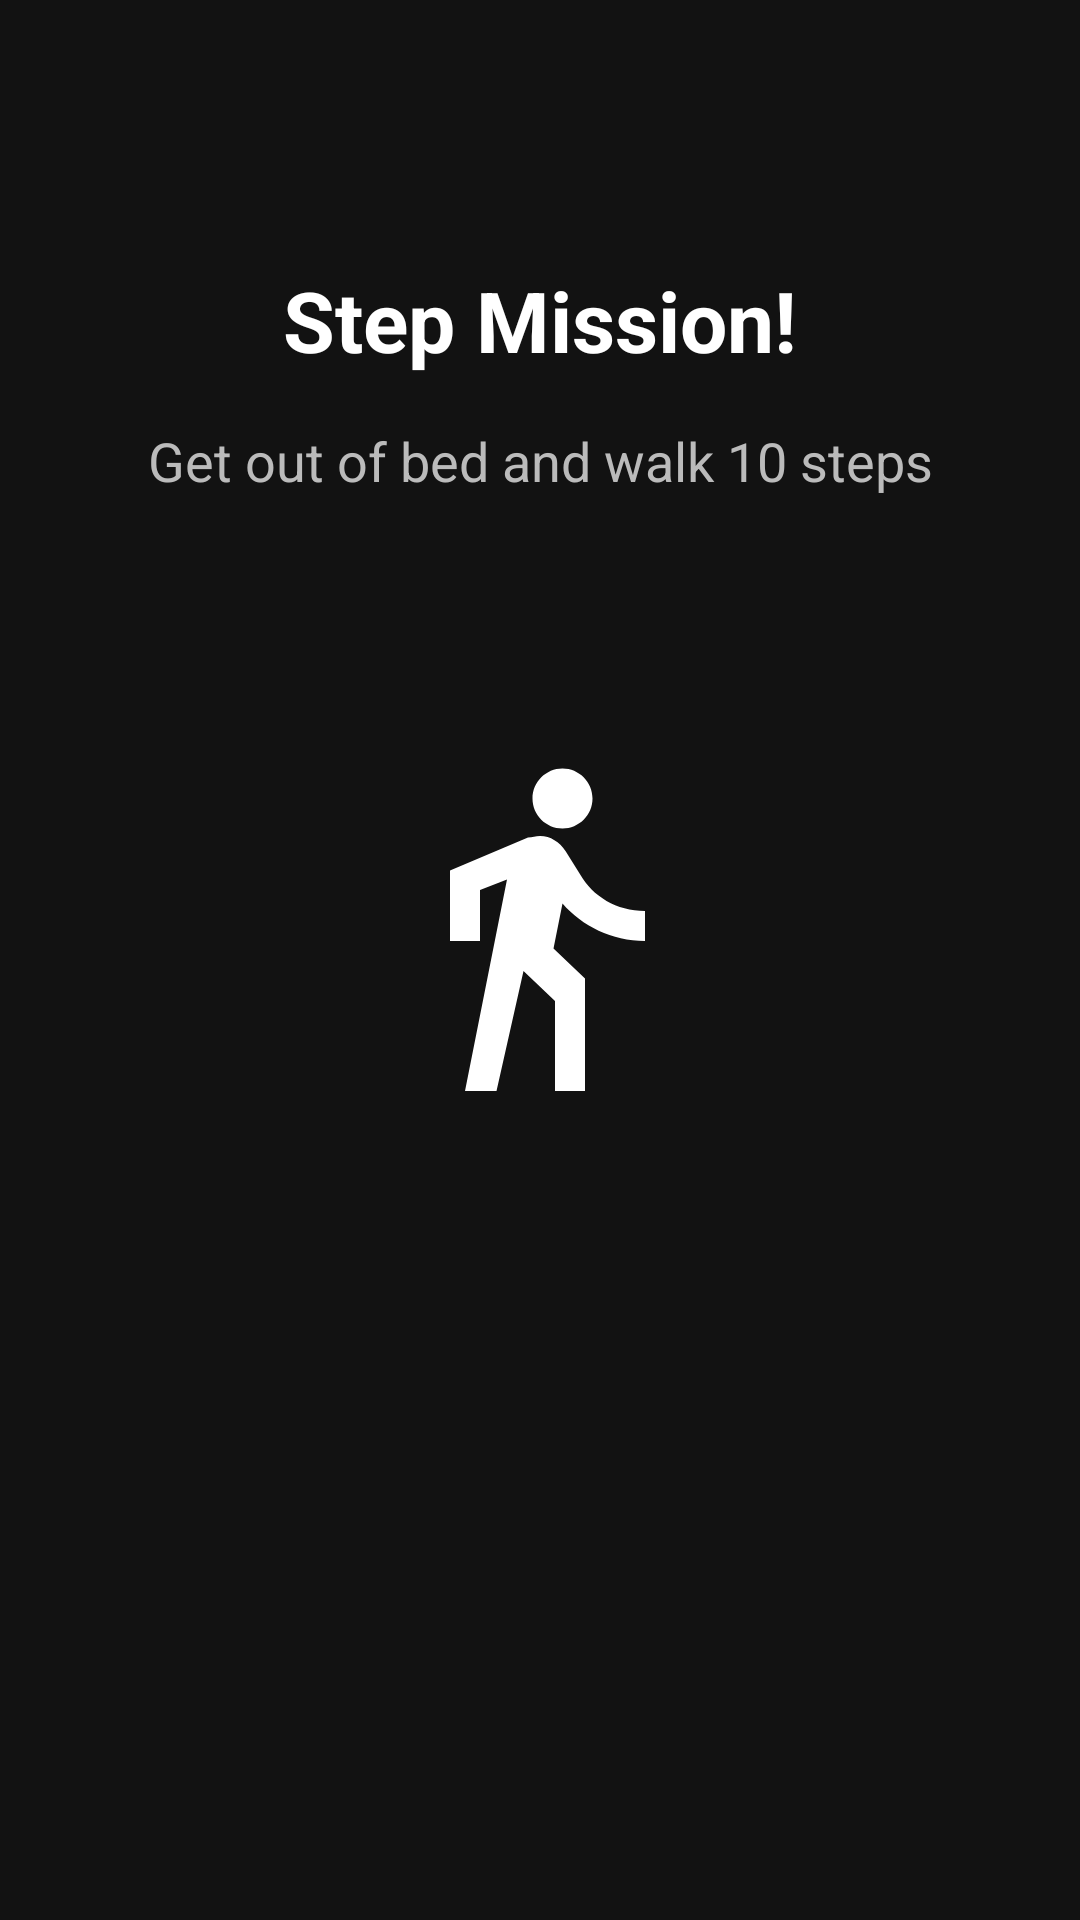

Where to tap for icons on this 1080w x 1920h app screen, as (x=x, y=y):
Walking icon: (x=547, y=929)
